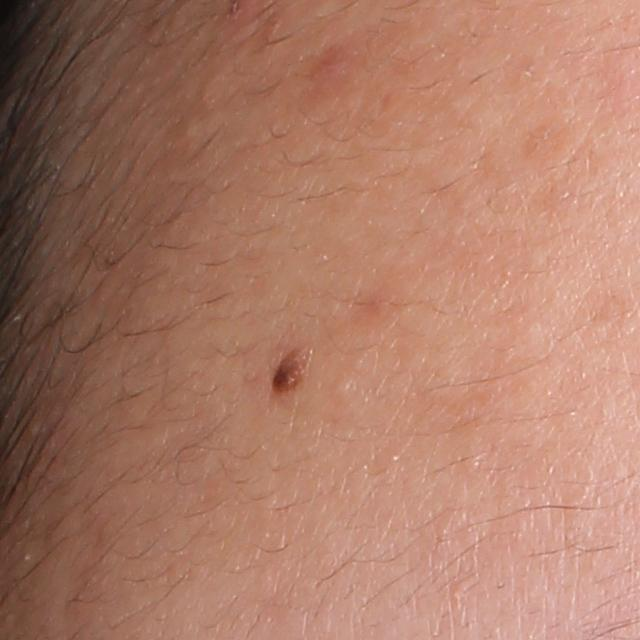nevus: (265, 344, 314, 400)
